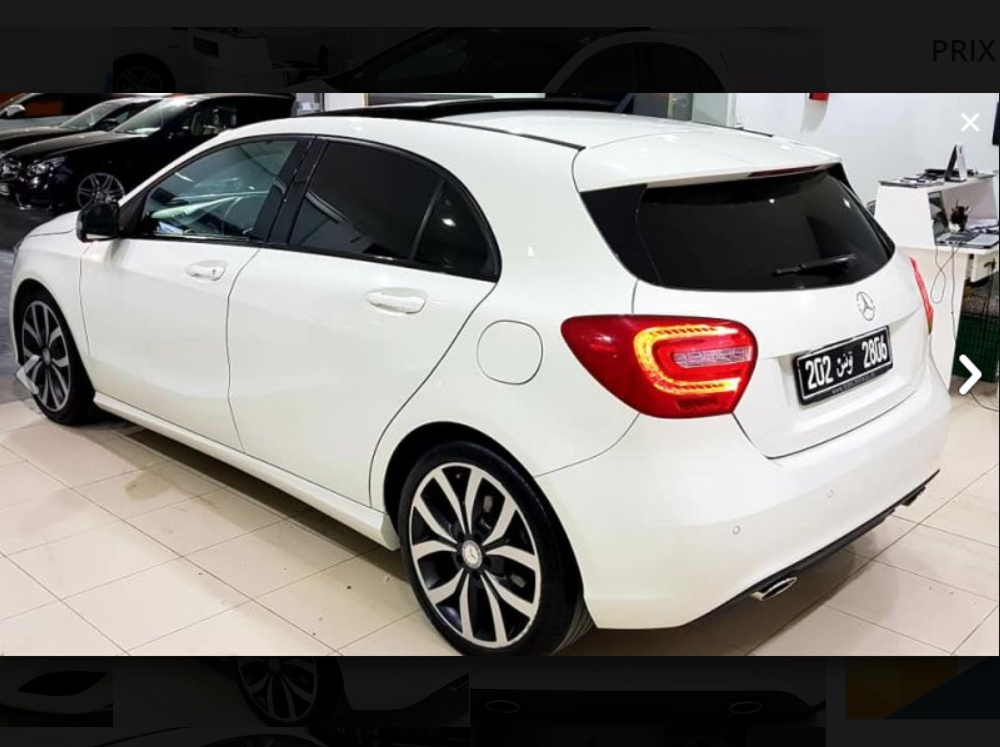LP: (792, 326, 898, 401)
